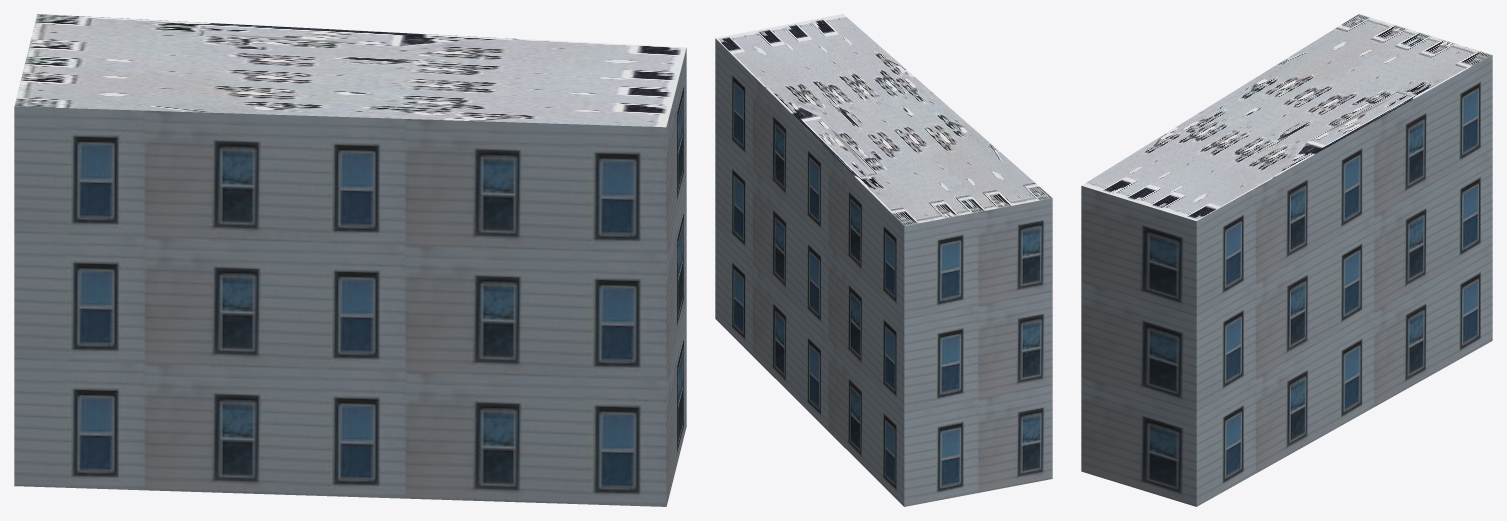
The model's file is ResTex__1035.fbx.
3 views of the same model, side by side, from view 1: azimuth 30°, elevation 25°; view 2: azimuth 150°, elevation 25°; view 3: azimuth 270°, elevation 25° (orthographic). The views are drawn at different scales.
Parts seen in each view (by area): view 1: CityEngineMaterial_18_m, CityEngineMaterial_4_m; view 2: CityEngineMaterial_18_m, CityEngineMaterial_4_m; view 3: CityEngineMaterial_18_m, CityEngineMaterial_4_m.
Boxes of the visible parts, x1,y1,x2,y2 form: CityEngineMaterial_18_m: [14, 48, 686, 506]; CityEngineMaterial_4_m: [14, 14, 686, 127]; CityEngineMaterial_18_m: [715, 38, 1052, 506]; CityEngineMaterial_4_m: [715, 14, 1052, 225]; CityEngineMaterial_18_m: [1081, 55, 1492, 506]; CityEngineMaterial_4_m: [1081, 14, 1492, 220].
Size of the model in its own units: 14 by 9 by 11.75.
Materials: 2 (2 with a texture image).
